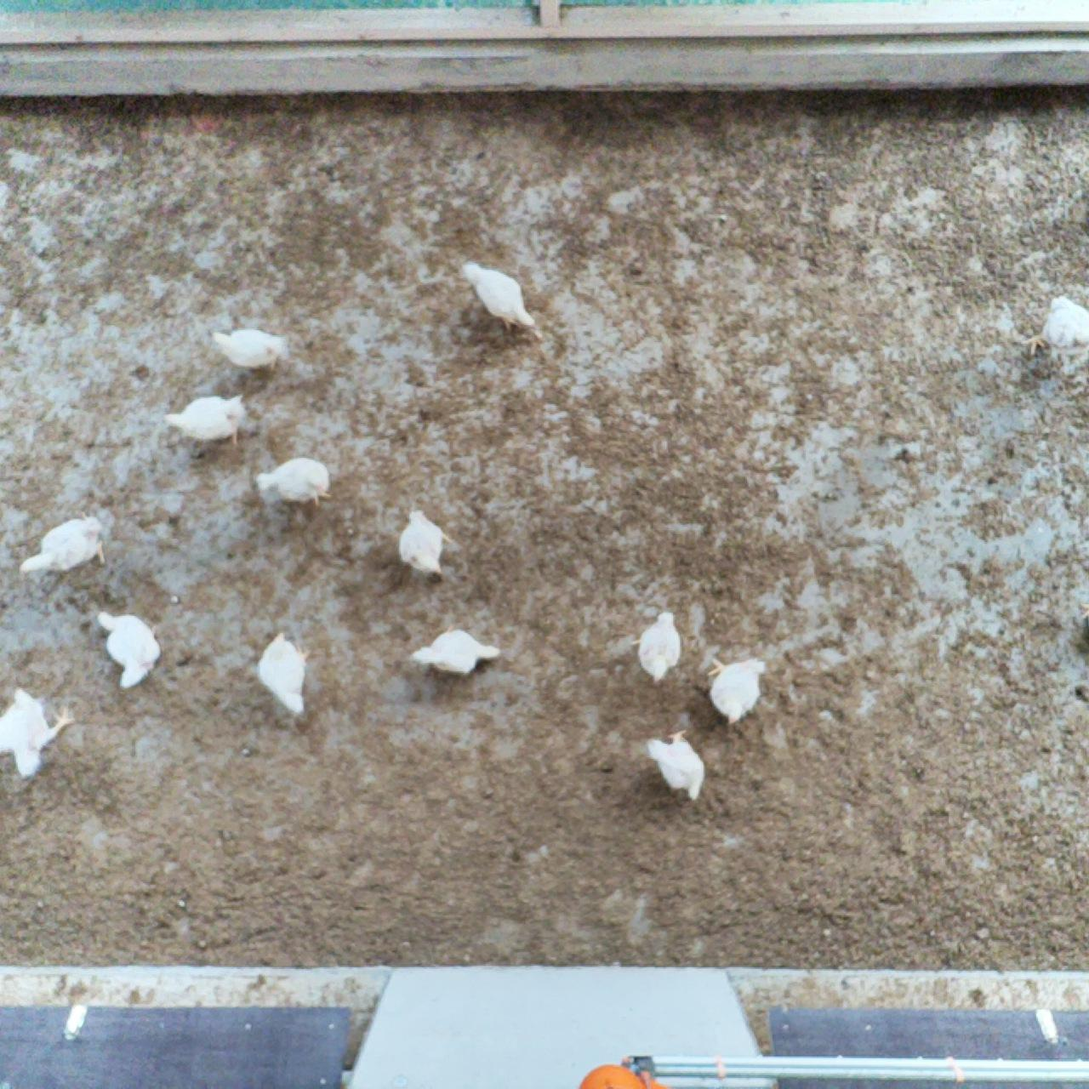chicken: (0, 681, 80, 781), (15, 509, 112, 579), (91, 606, 165, 691), (459, 260, 538, 336), (162, 388, 254, 450), (702, 650, 771, 725), (408, 625, 505, 676), (255, 631, 312, 717), (1025, 289, 1089, 365), (643, 727, 707, 802), (254, 452, 335, 509), (396, 505, 460, 577), (206, 322, 290, 376), (636, 606, 681, 682)
